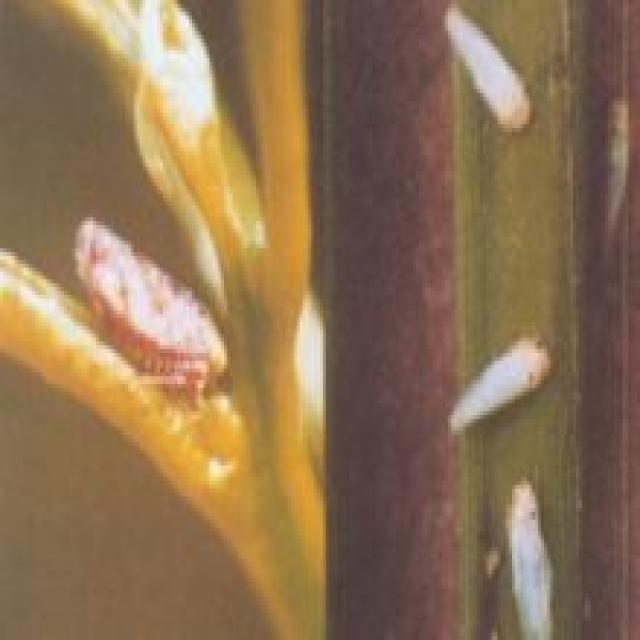Yechan: (496, 476, 570, 634), (440, 9, 530, 138), (446, 335, 559, 435)
